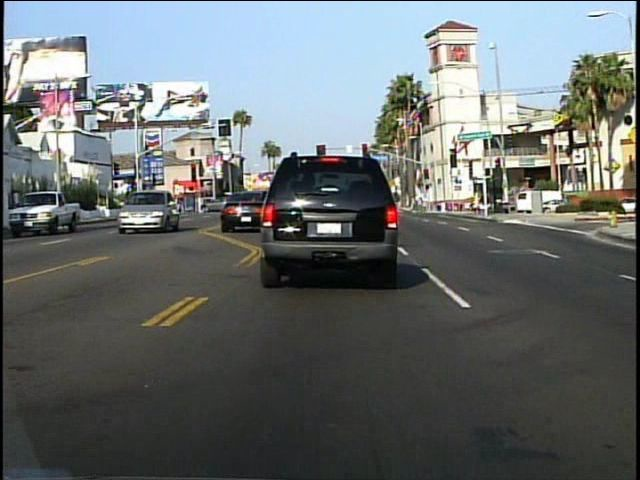person: (170, 189, 187, 221)
